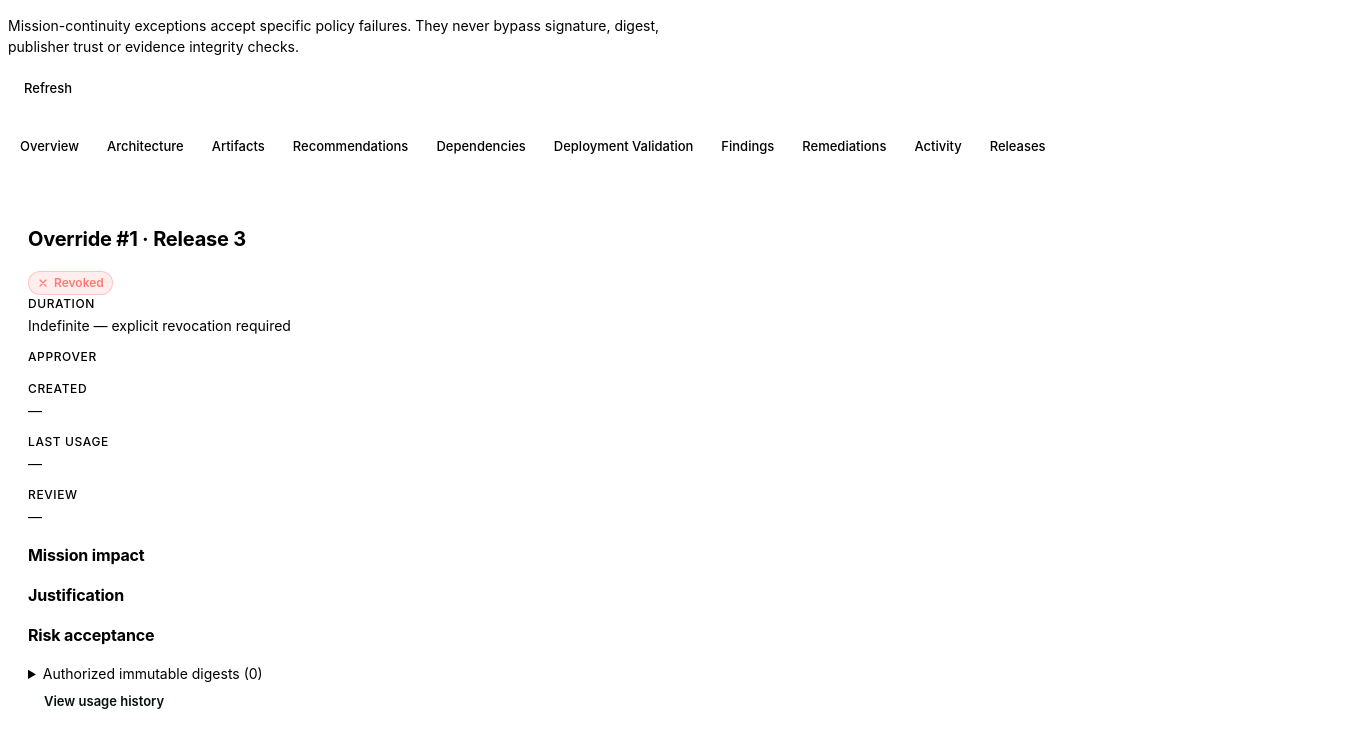
Test case: shows override enforcement details and an explicit empty history
(page scrolled)
Click the button "View usage history": point(104, 702) [28,684,180,720]
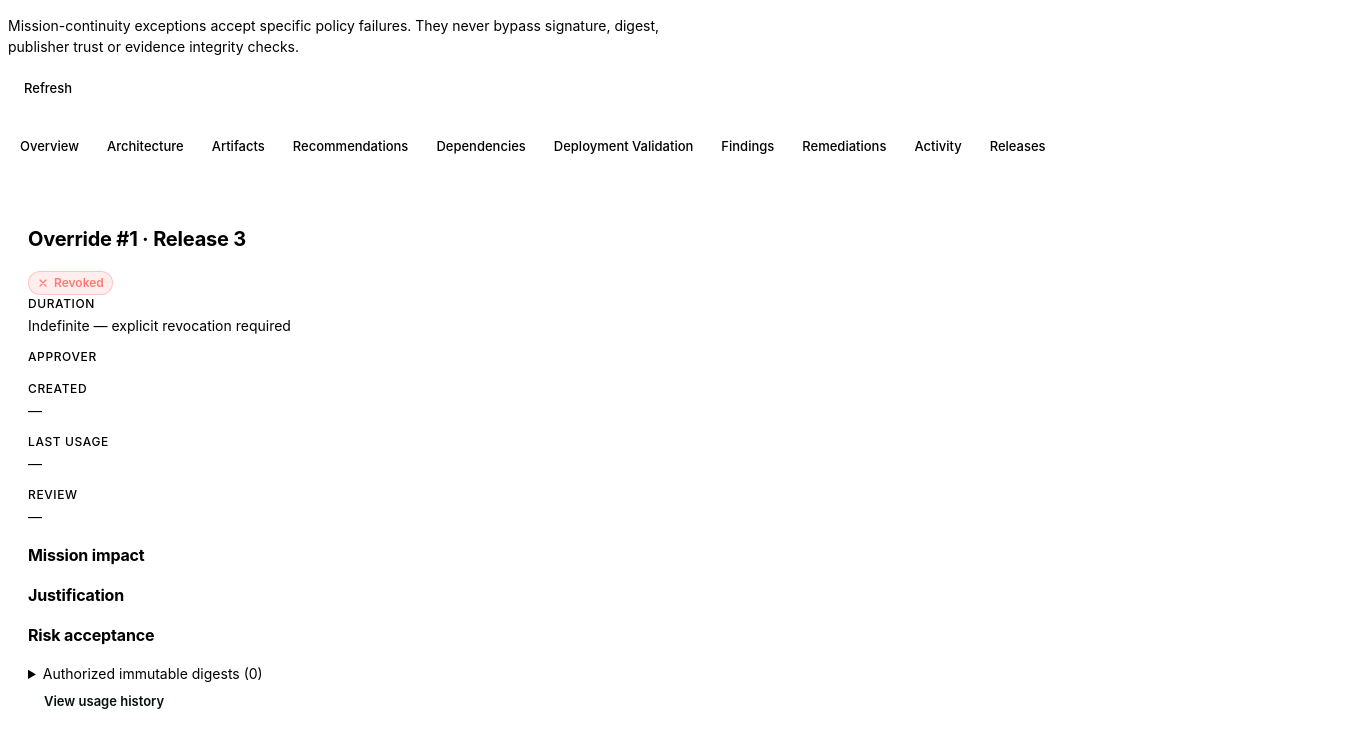
Click the button "View usage history": point(104, 702) [28,684,180,720]
(page scrolled)
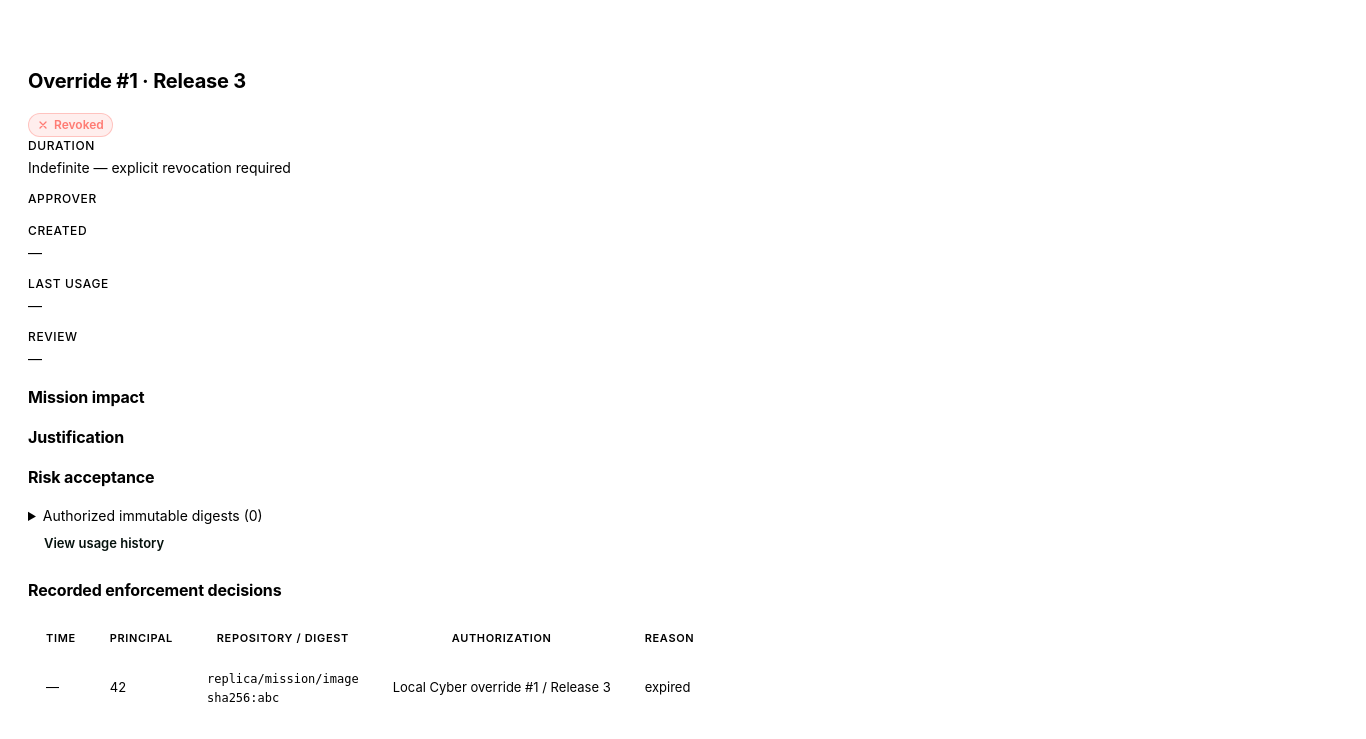
Expected: the text "Local Cyber override #1 / Release 3" is shown, [377,658,627,718]
Expected: the text "42" is shown, [94,658,189,718]
Expected: the text "expired" is shown, [629,658,710,718]
